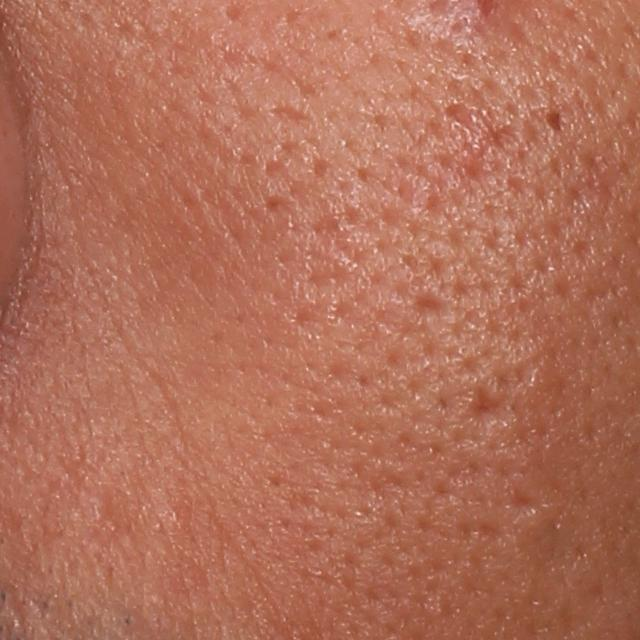atrophic_scar: (463, 380, 518, 434), (406, 292, 457, 323), (508, 482, 537, 513)
